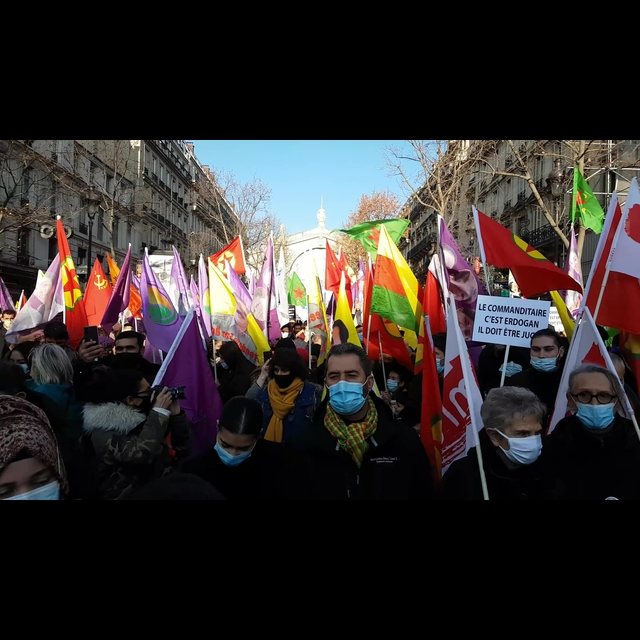MLKP: (92, 272, 109, 294)
